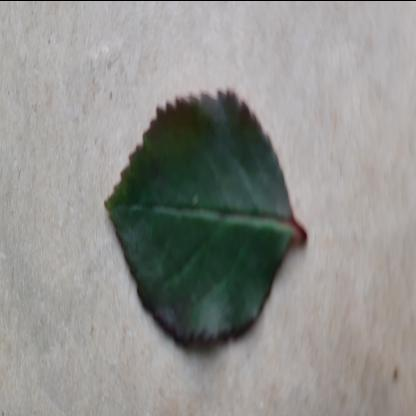powdery-mildew: (104, 72, 300, 365)
